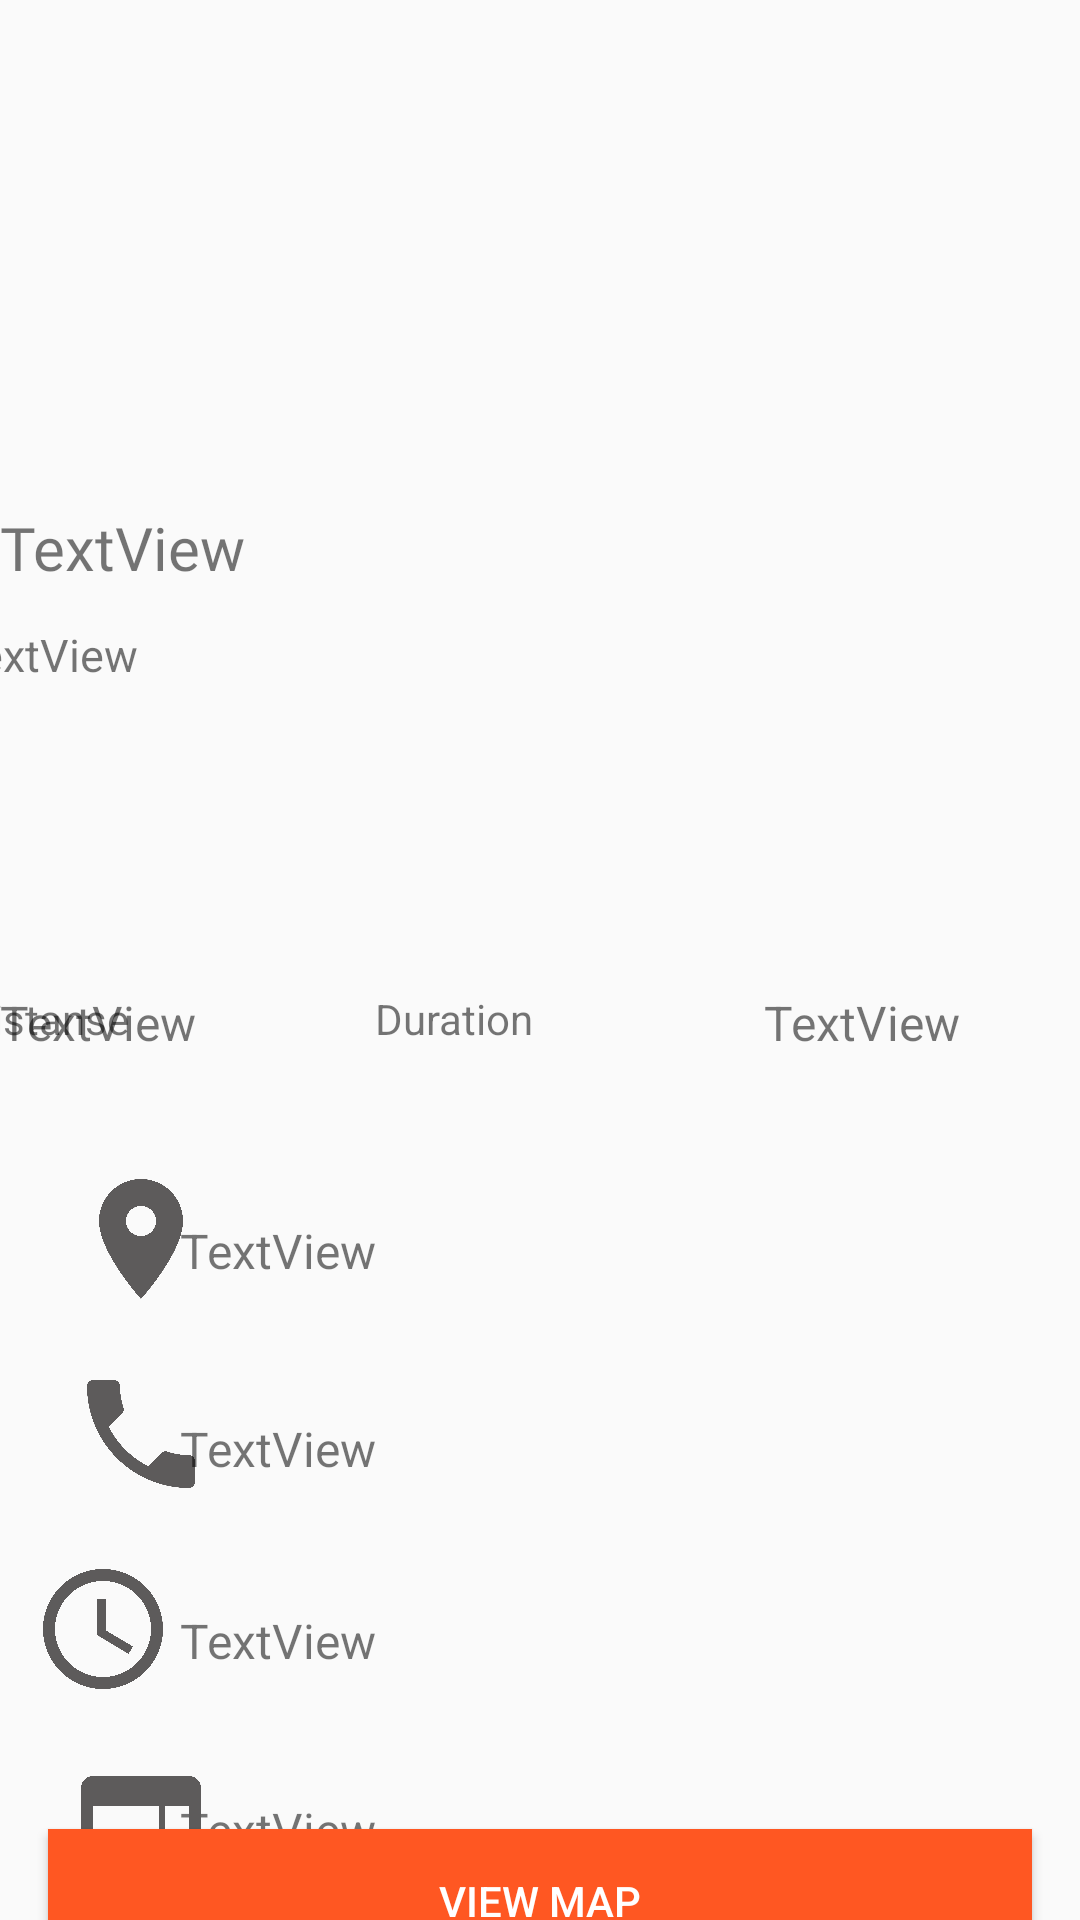

Icons on this 1080px×1920px Android screen, each with its box as (x1, y1, x2, y2):
access time: (43, 1569, 163, 1689)
local phone: (87, 1380, 208, 1488)
location on: (99, 1179, 208, 1299)
